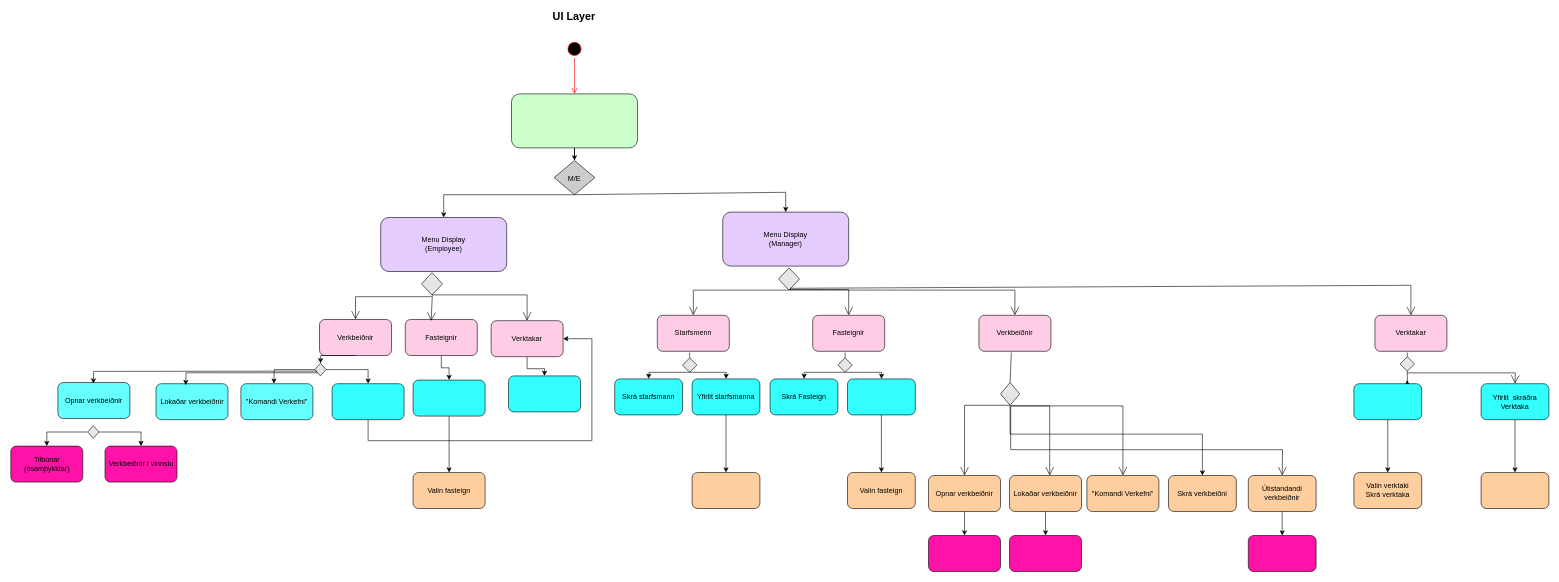
Image size: 1559x582. Some labels were removed from this diagram. Each missing label, with the centre of its shape:
"Biðja Notenda um aðgang (Starfsmaður / Yfirmaður)" belongs at point 574,120.
"Listi fasteigna (hægt að raða upp eftir henntugleika)" belongs at point 448,398.
"Skoða nýja verktaka" belongs at point 1387,401.
"Skrá Verkskýrslu" belongs at point 368,401.
"Sýnir upl. um verktaka" belongs at point 544,393.
"Valin Verbeiðni Hafna/samþykkja" belongs at point 1282,553.
"Valin verkbeiðni (möguleiki á opnun)" belongs at point 1045,553.
"Valin verkbeiðni (Skrá verkskýrslu)" belongs at point 964,553.
"Valin verktaki (skrá á verkskýrslu)" belongs at point 1514,490.
"Valinn starfsmaður (möguleiki á breyta starfsmanna upl)" belongs at point 726,490.
"Yfirlit Fasteigna" belongs at point 881,396.
